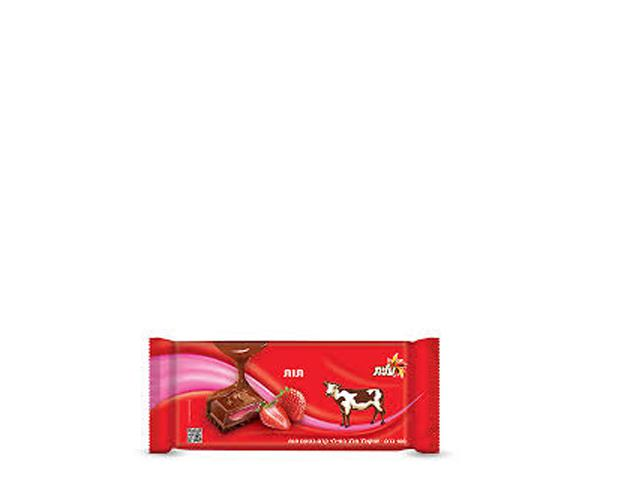chocolate: (146, 338, 460, 473)
